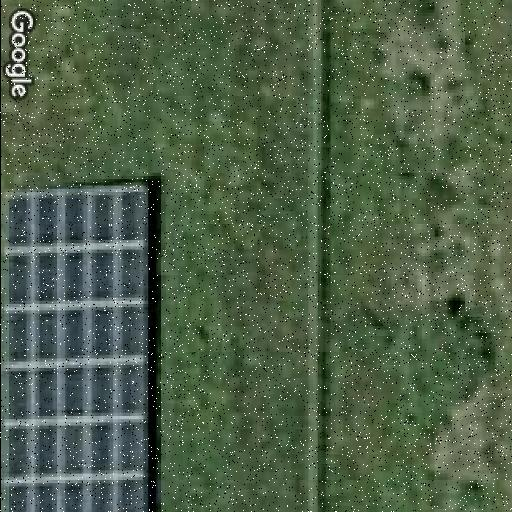solar-panel: (0, 176, 160, 512)
